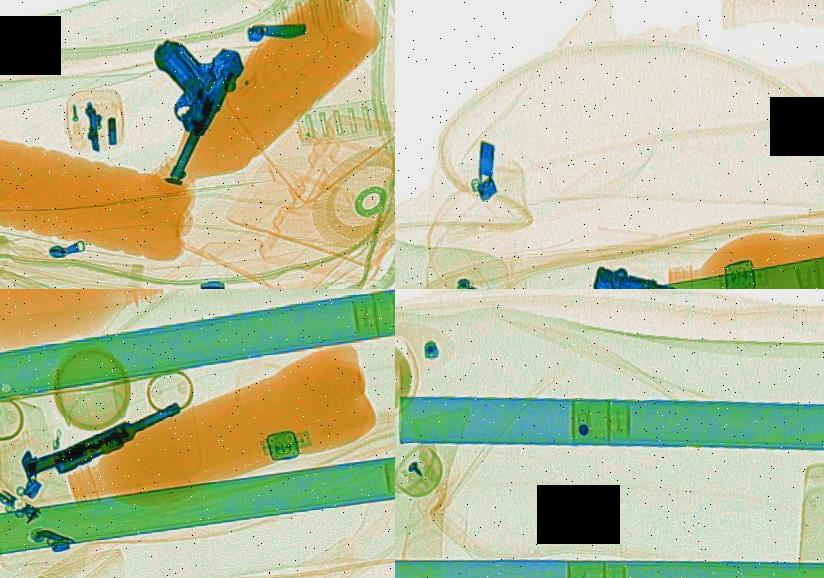Gun: (105, 32, 259, 190), (1, 389, 194, 490), (550, 255, 753, 289)
